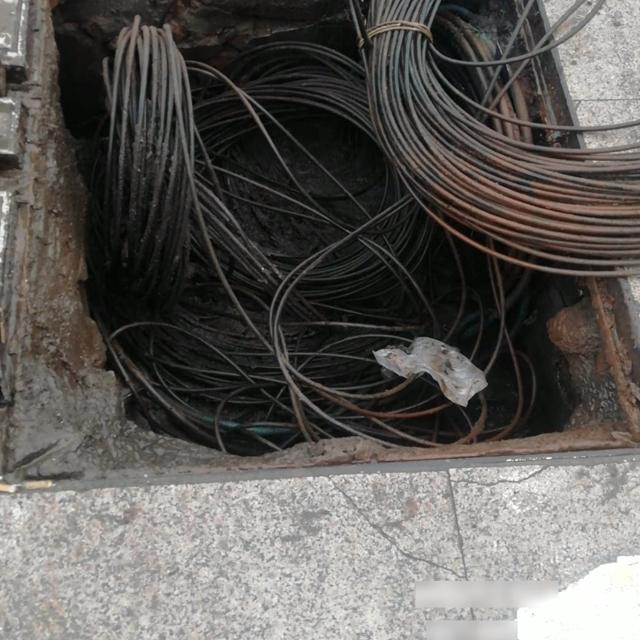lose: (0, 0, 627, 523)
